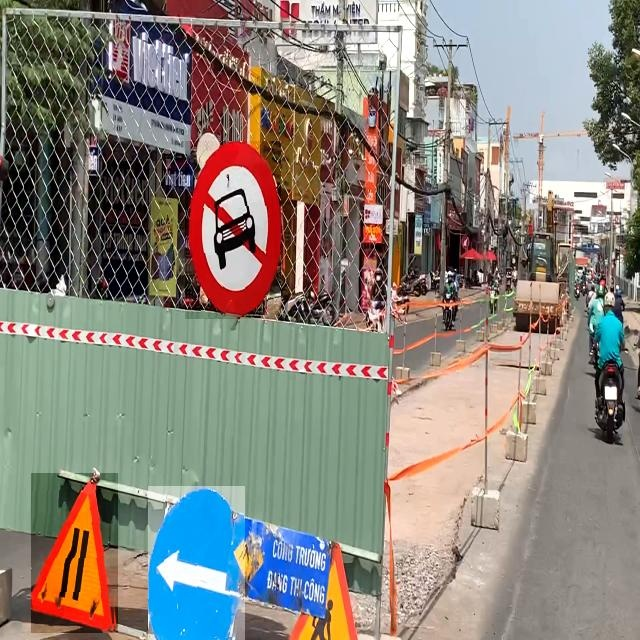bien_cam: (185, 141, 281, 319), (148, 486, 245, 640), (31, 473, 118, 633)
